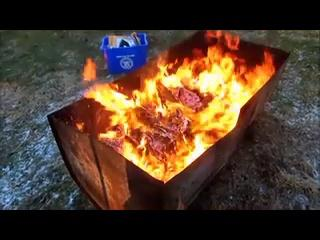fire: (96, 31, 274, 182)
